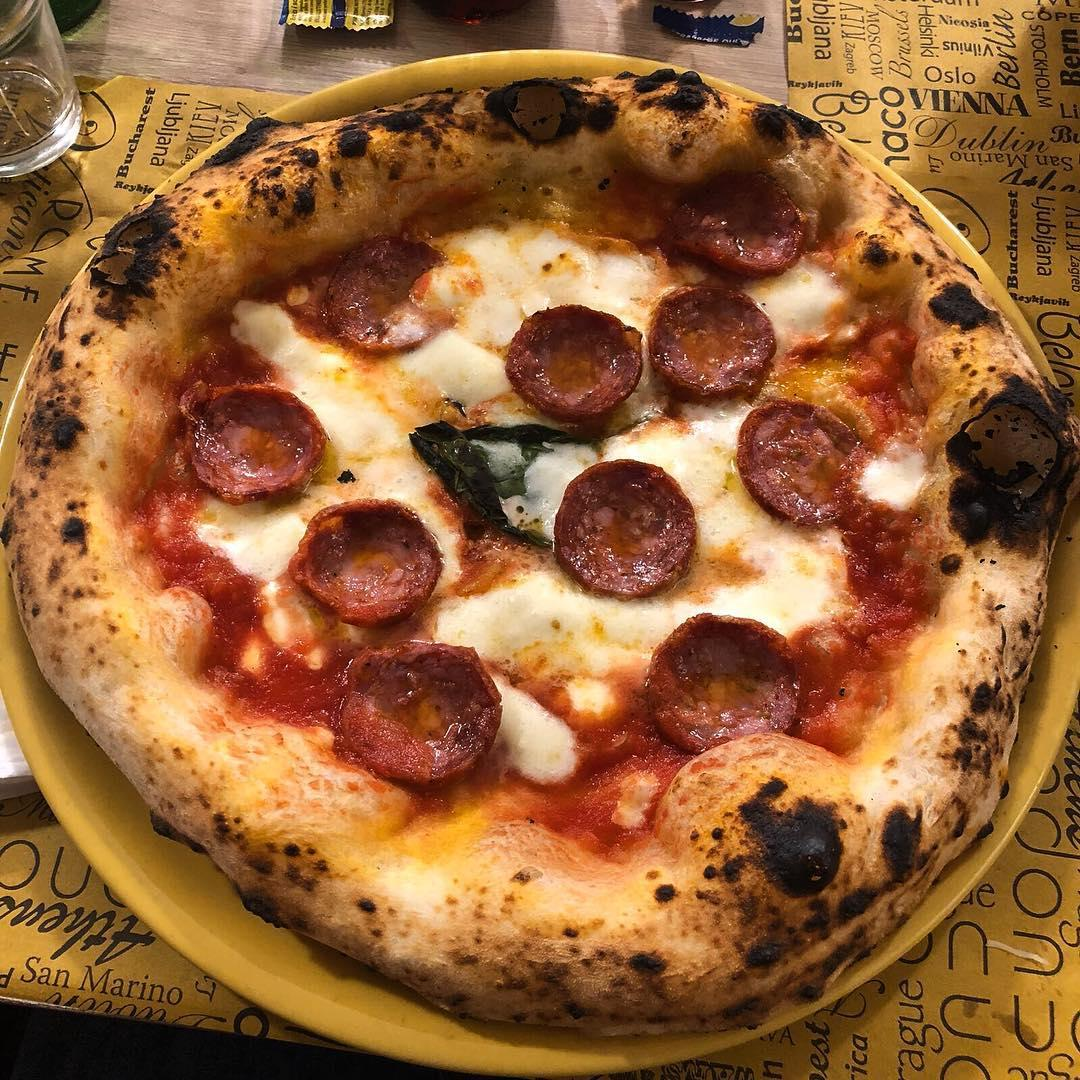Basil: (421, 418, 607, 538)
Pepperoni: (548, 458, 700, 605), (648, 614, 800, 752), (294, 234, 465, 354), (324, 651, 494, 769), (291, 504, 447, 621), (738, 401, 876, 523), (654, 288, 780, 412), (178, 391, 314, 494), (508, 314, 634, 416), (674, 174, 805, 261)
Pizza: (38, 68, 1076, 1029)
